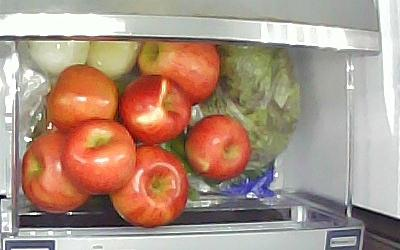apple: (112, 147, 189, 229), (64, 118, 137, 196), (22, 134, 91, 213), (119, 75, 192, 146), (137, 41, 220, 102), (47, 64, 119, 130), (182, 115, 251, 182)
